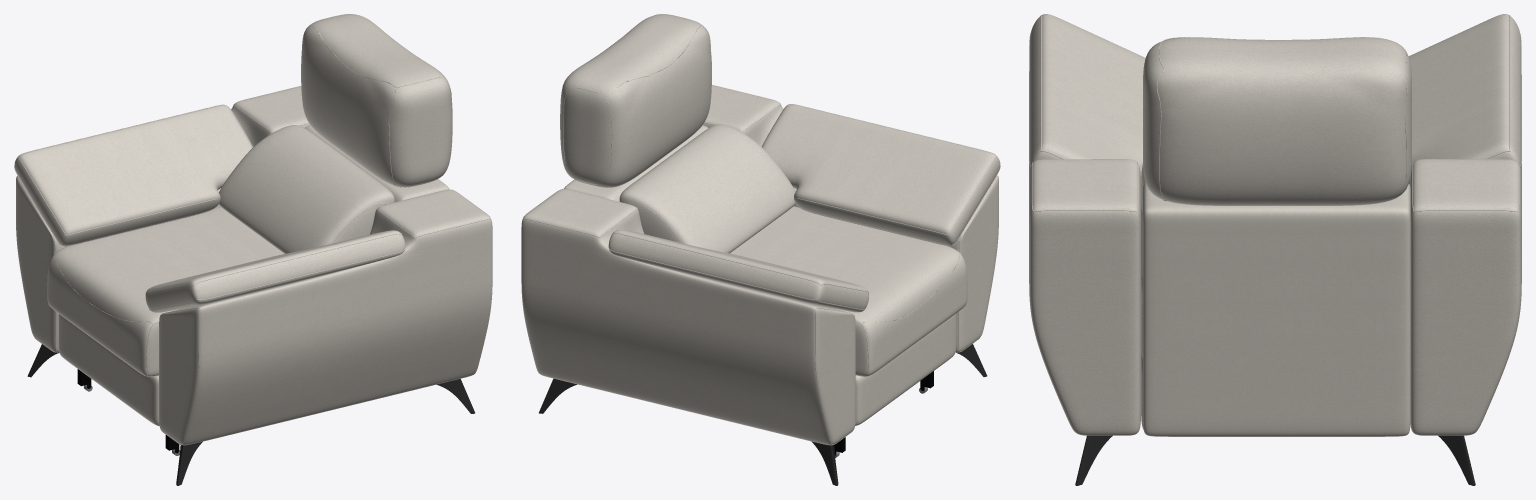
File: meiple.glb
3 renders of one model, left to right at view 1: azimuth 30°, elevation 25°; view 2: azimuth 150°, elevation 25°; view 3: azimuth 270°, elevation 25°, orthographic. The views are drawn at different scales.
Parts seen in each view (by area): view 1: object 9, object 4, object 21, assento, object 23, object 11, object 6, Base assento, Costa, D=~ 0,00 m; view 2: object 6, object 11, object 21, assento, object 23, object 4, object 9, Base assento, Costa, D=~ 0,00 m; view 3: Costa, object 21, object 9, object 6, object 11, object 4, object 2, object 7.
Boxes of the visible parts, box(x1,y1,x2,y2) form: object 9: box(159, 189, 492, 445); object 4: box(14, 104, 252, 245); object 21: box(301, 14, 452, 187); assento: box(47, 207, 284, 455); object 23: box(219, 125, 394, 253); object 11: box(145, 230, 405, 312); object 6: box(16, 86, 310, 352); Base assento: box(58, 314, 159, 425); Costa: box(305, 125, 449, 202); D=~ 0,00 m: box(18, 104, 252, 235); object 6: box(521, 189, 855, 445); object 11: box(762, 104, 1000, 245); object 21: box(560, 14, 711, 187); assento: box(730, 206, 967, 457); object 23: box(619, 124, 795, 253); object 4: box(608, 230, 868, 312); object 9: box(703, 85, 998, 352); Base assento: box(855, 313, 956, 425); Costa: box(564, 125, 708, 201); D=~ 0,00 m: box(761, 104, 996, 235); Costa: box(1142, 183, 1410, 436); object 21: box(1143, 37, 1411, 205); object 9: box(1029, 71, 1141, 435); object 6: box(1409, 75, 1521, 435); object 11: box(1029, 14, 1145, 183); object 4: box(1409, 14, 1521, 183); object 2: box(1438, 435, 1475, 485); object 7: box(1075, 435, 1112, 485).
Size of the model in its own units: 1.1 by 1.04 by 1.1.
5 materials, 1 textured.
